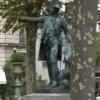Statue: (23, 0, 77, 83)
